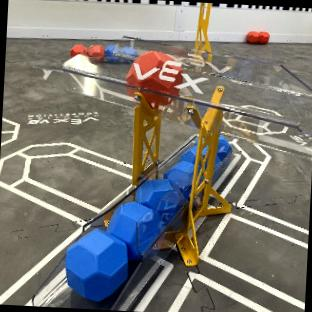V5_BLUE: (66, 227, 127, 300), (109, 202, 162, 256), (136, 178, 183, 223), (166, 161, 192, 198)
blueingoal: (126, 50, 181, 92)
